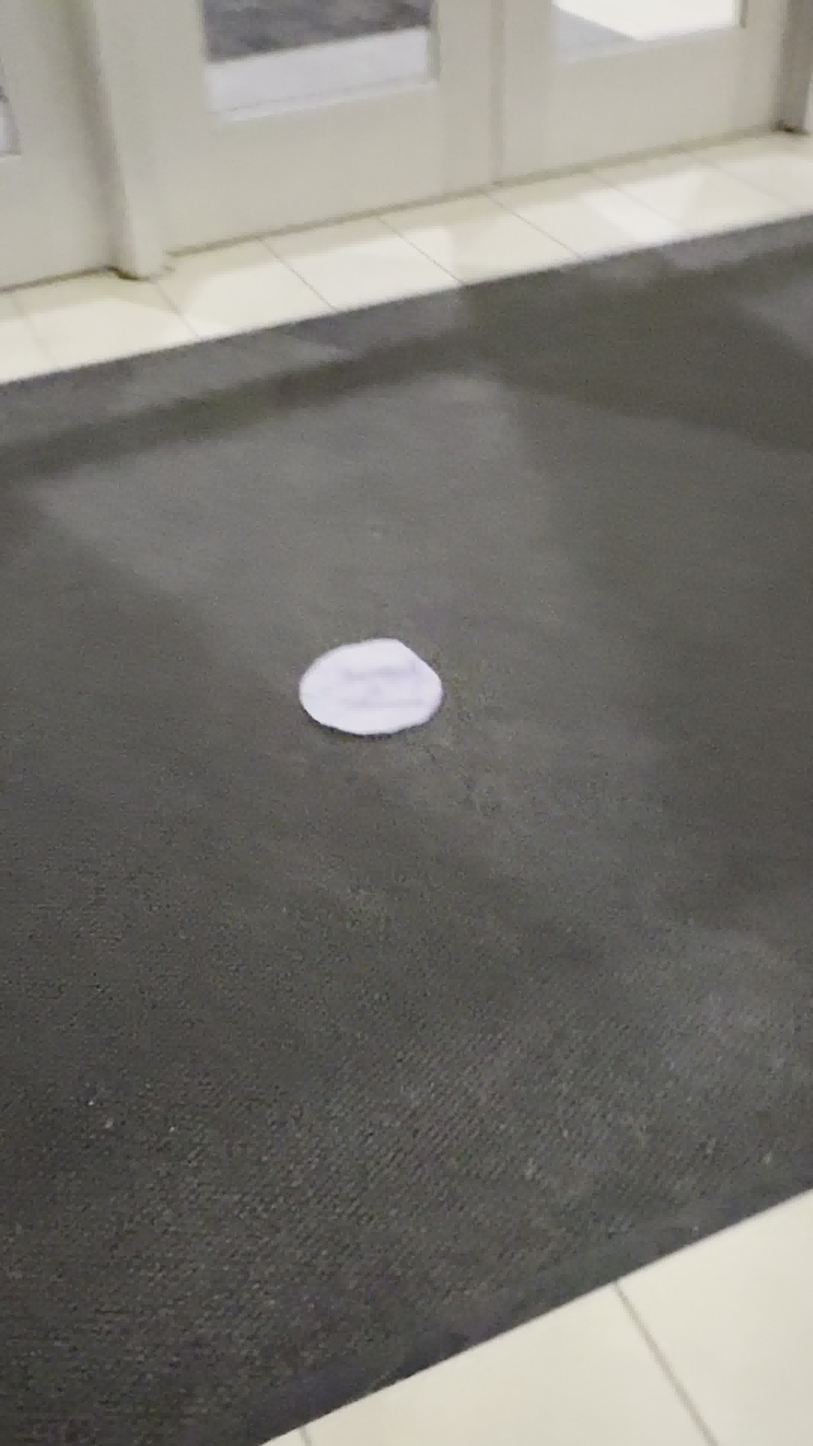Target: (297, 637, 443, 735)
